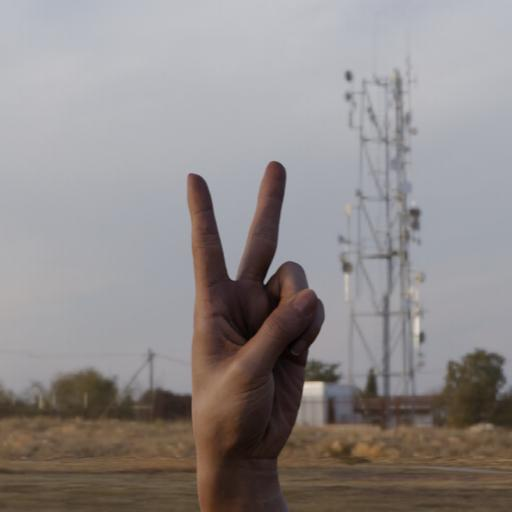V: (176, 152, 328, 512)
